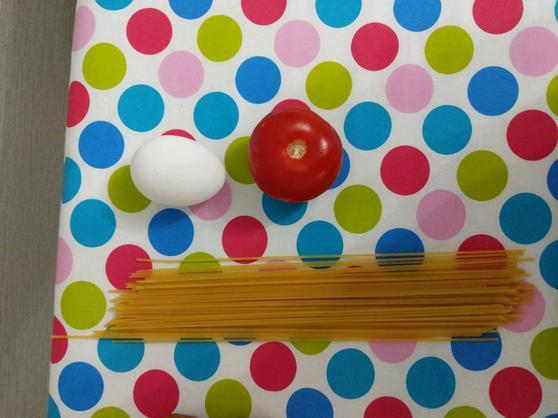egg: (124, 122, 237, 215)
spaghetti: (75, 233, 549, 348)
tomato: (240, 99, 349, 204)
